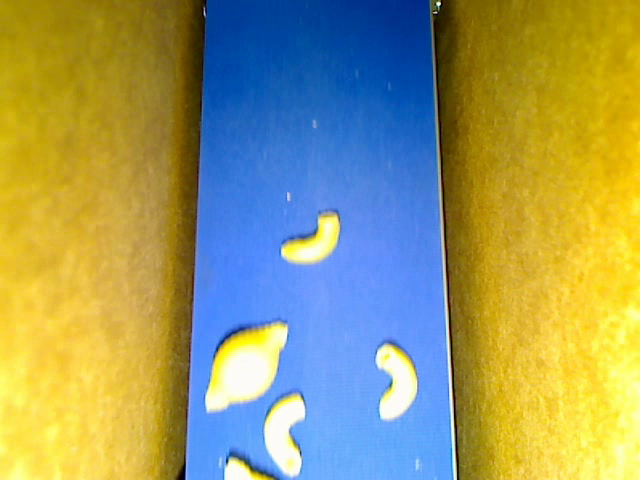elbow: (263, 390, 306, 478), (374, 342, 418, 421), (280, 210, 341, 265)
shell: (203, 321, 289, 412), (223, 456, 276, 479)
